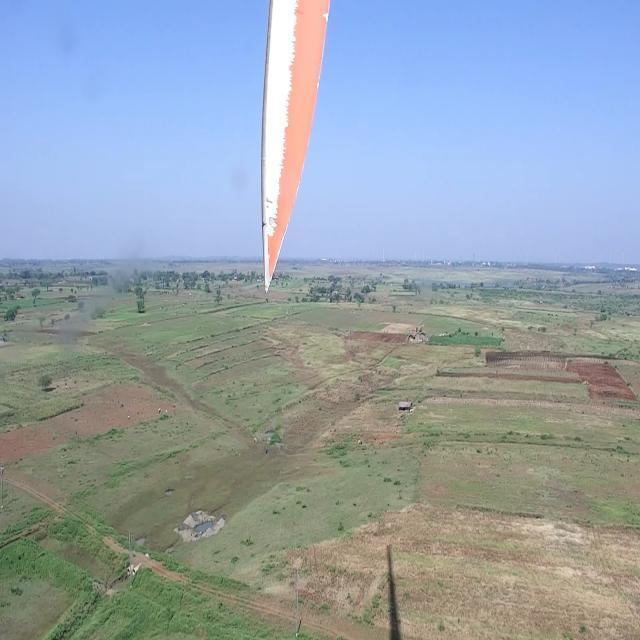PU-tape: (266, 0, 298, 240)
